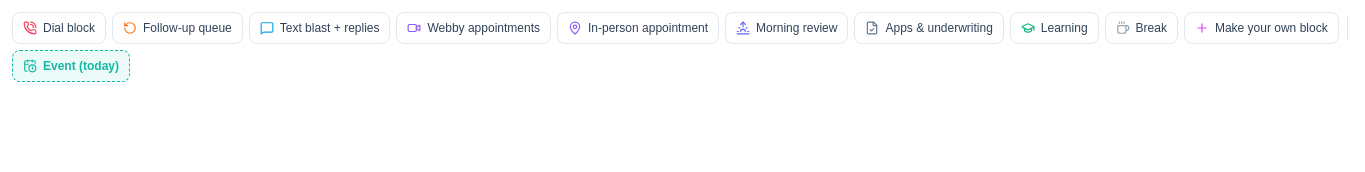
Scenario: hovering the Event chip shows its own why-line, distinct from a category chip's
Hover over the button "Event (today)".
mouse_move(71, 66)  # box [12,50,130,82]
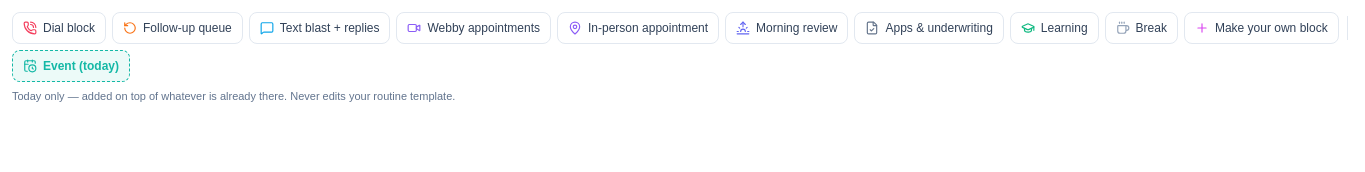
Expected: the text "Today only" is shown, [12,90,455,102]
Move the pointer off the button "Event (today)", box [12,50,130,82]
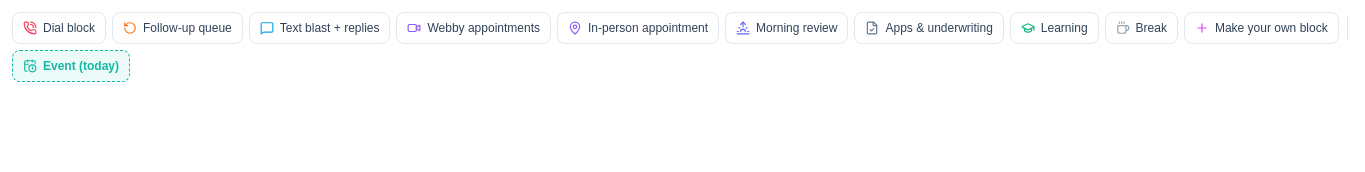
Hover over the button "Dial block".
mouse_move(59, 28)  # box [12,12,106,44]
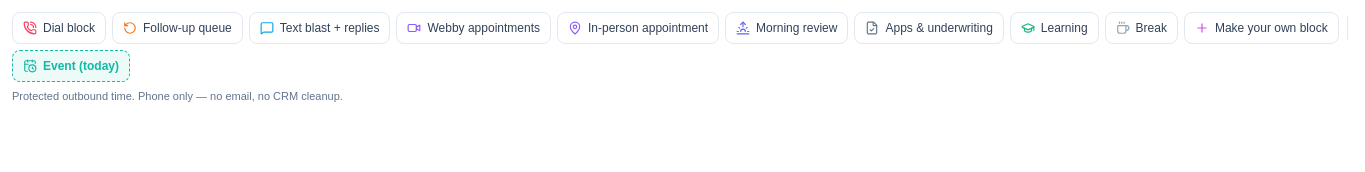
Expected: the text "Protected outbound time" is shown, [12,90,343,102]
